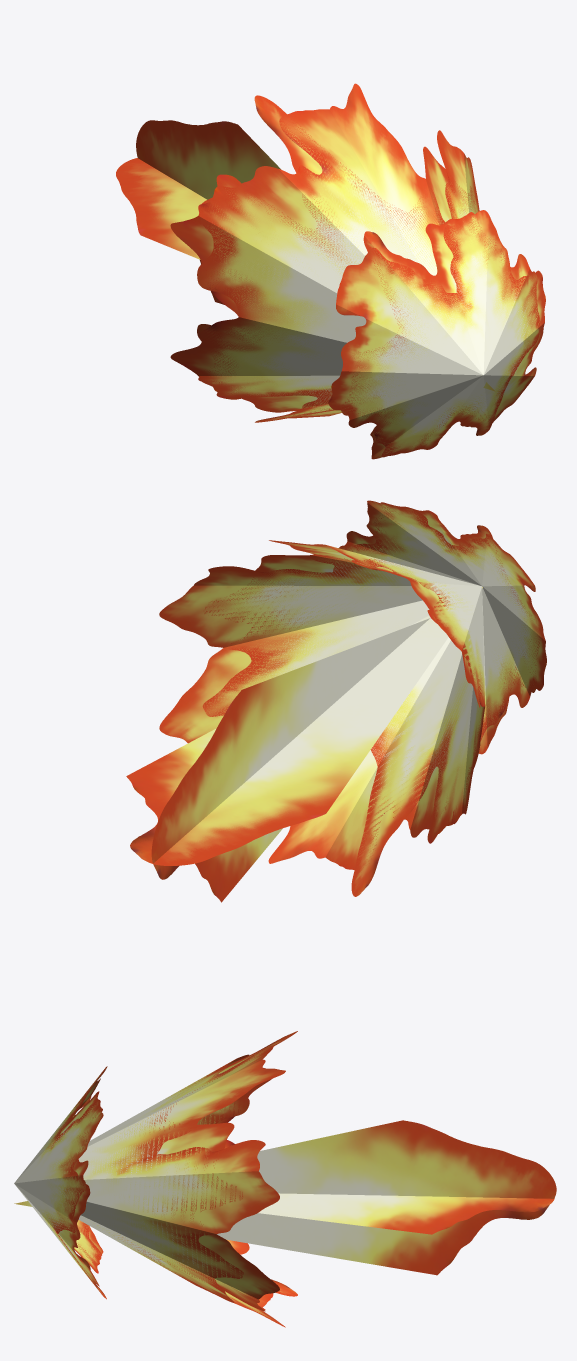
File: MuzzleFlash.fbx
3 views of the same model, one above another, from view 1: azimuth 30°, elevation 25°; view 2: azimuth 150°, elevation 25°; view 3: azimuth 270°, elevation 25° (orthographic). The views are drawn at different scales.
Visible parts, largest first — view 1: Muzzleflash; view 2: Muzzleflash; view 3: Muzzleflash.
Part boxes in pixels (x1,y1,x2,y2): Muzzleflash: (116,83,545,459); Muzzleflash: (126,500,546,902); Muzzleflash: (14,1031,556,1327).
Bounding box in the file's own units: 0.2827 × 0.2827 × 0.4742.
